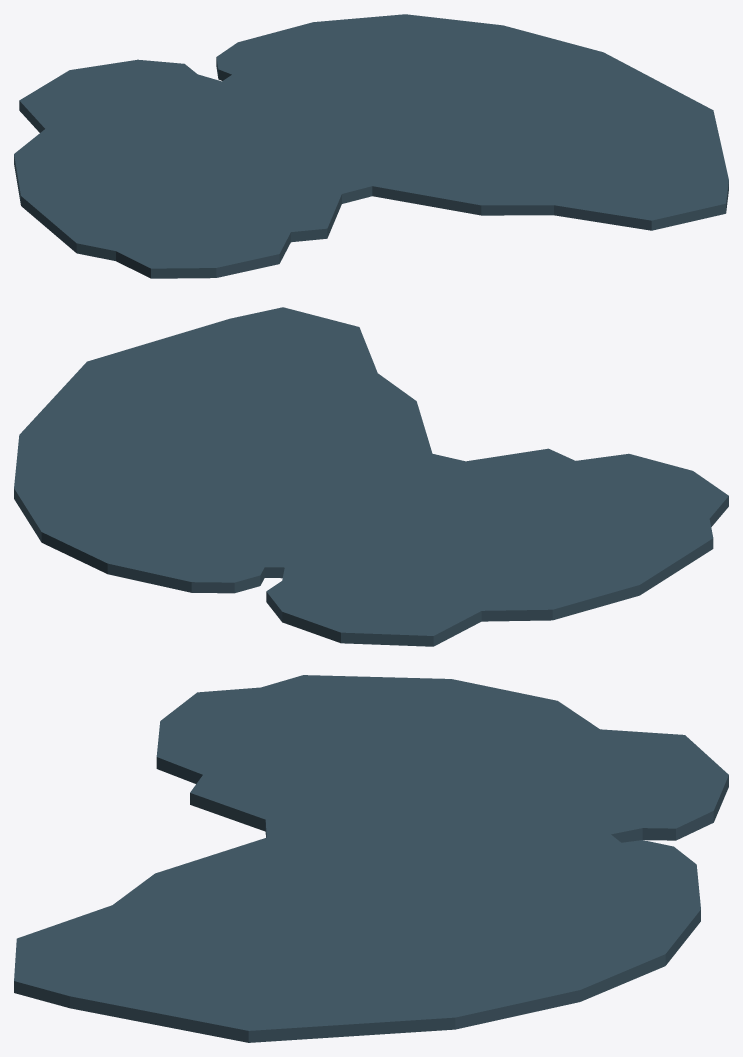
The model's file is RH_Ground02.fbx.
3 renders of one model, top to bottom at view 1: azimuth 30°, elevation 25°; view 2: azimuth 150°, elevation 25°; view 3: azimuth 270°, elevation 25°, orthographic. The views are drawn at different scales.
Parts seen in each view (by area): view 1: RH_Ground02; view 2: RH_Ground02; view 3: RH_Ground02.
Boxes of the visible parts, <box> form: RH_Ground02: <box>14,14,728,278</box>; RH_Ground02: <box>14,307,728,646</box>; RH_Ground02: <box>14,675,728,1042</box>.
Bounding box in the file's own units: 953 × 15 × 809.
Materials: 1 (1 with a texture image).
